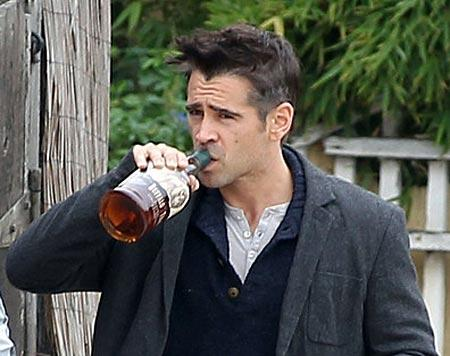Drinking: (101, 75, 295, 242)
